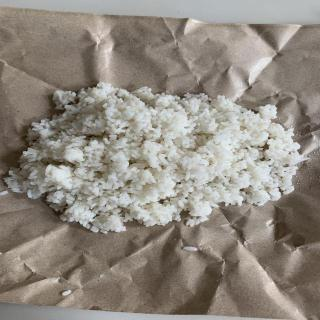Nasi: (10, 86, 309, 234)
